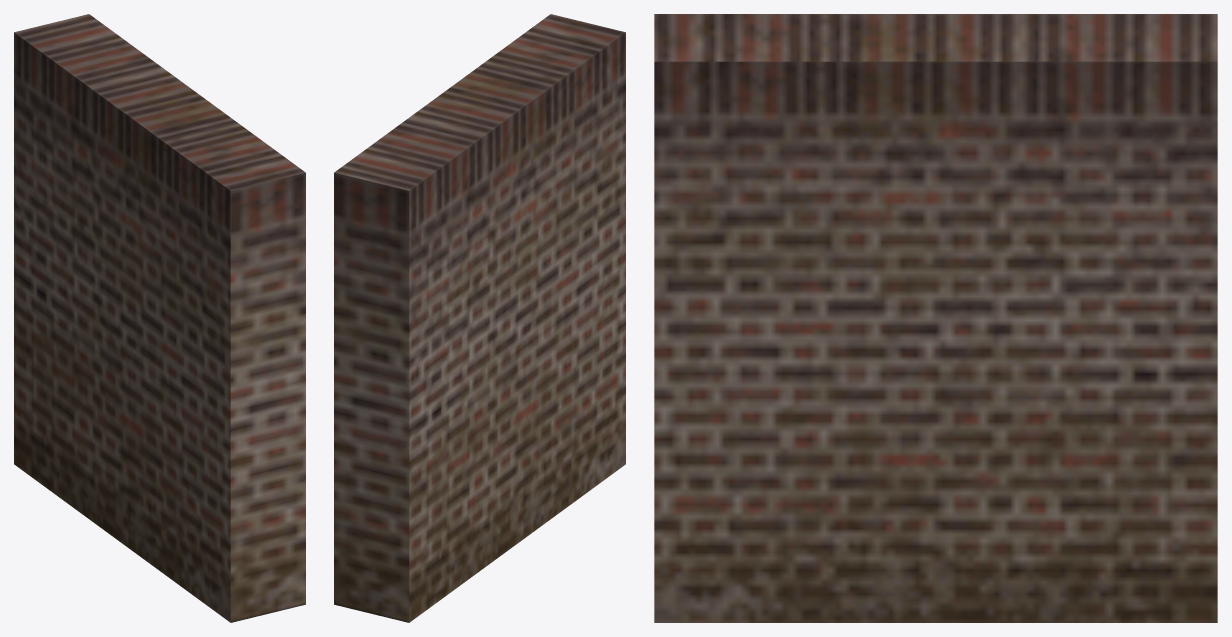
File: brickwall1.fbx
The picture shows the model from 3 angles, left to right: view 1: azimuth 30°, elevation 25°; view 2: azimuth 150°, elevation 25°; view 3: azimuth 270°, elevation 25°; orthographic projection. The views are drawn at different scales.
Parts seen in each view (by area): view 1: brickwall1; view 2: brickwall1; view 3: brickwall1.
Boxes of the visible parts, <box> form: brickwall1: <box>14,14,305,622</box>; brickwall1: <box>334,14,625,622</box>; brickwall1: <box>654,14,1217,622</box>.
Size of the model in its own units: 40 by 200 by 220.
Materials: 1 (1 with a texture image).
